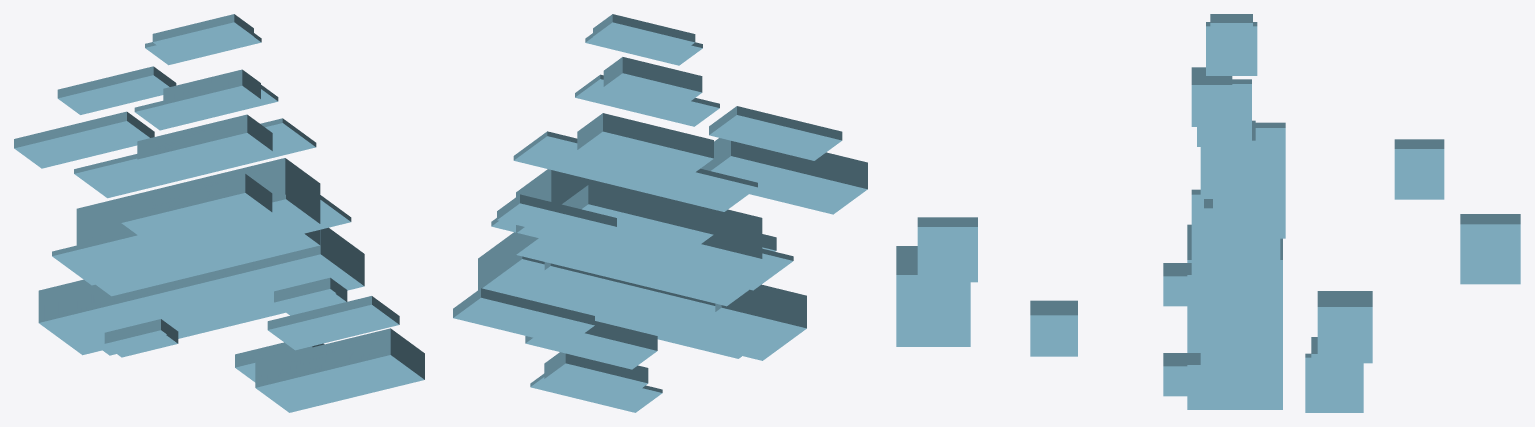
Rendered from tri-deck-superyacht.glb.
3 views of the same model, side by side, from view 1: azimuth 30°, elevation 25°; view 2: azimuth 150°, elevation 25°; view 3: azimuth 270°, elevation 25° (orthographic). The views are drawn at different scales.
Parts seen in each view (by area): view 1: SuperyachtHull, SuperyachtBow, SuperyachtMainDeck, SuperyachtSuperstructure, SuperyachtMainSalon, SuperyachtSkyLounge, SuperyachtAftDeck, SuperyachtUpperDeck, SuperyachtForedeck, SuperyachtUpperAft, SuperyachtPilothouse, SuperyachtSunDeck (+6 smaller); view 2: SuperyachtHull, SuperyachtSuperstructure, SuperyachtBow, SuperyachtUpperDeck, SuperyachtMainDeck, SuperyachtSkyLounge, SuperyachtMainSalon, SuperyachtAftDeck, SuperyachtForedeck, SuperyachtUpperAft, SuperyachtMaster, SuperyachtPilothouse (+6 smaller); view 3: SuperyachtHull, SuperyachtMainDeck, SuperyachtBow, SuperyachtUpperDeck, SuperyachtAftDeck, SuperyachtMaster, SuperyachtForedeck, SuperyachtUpperAft, SuperyachtSkyLounge, SuperyachtForwardGuest, SuperyachtMainSalon, SuperyachtSunDeck (+8 smaller).
Boxes of the visible parts, bbox=[...] form: SuperyachtHull: bbox=[38, 227, 364, 355]; SuperyachtBow: bbox=[255, 328, 424, 412]; SuperyachtMainDeck: bbox=[52, 194, 351, 285]; SuperyachtSuperstructure: bbox=[76, 158, 320, 296]; SuperyachtMainSalon: bbox=[121, 173, 272, 242]; SuperyachtSkyLounge: bbox=[137, 114, 272, 177]; SuperyachtAftDeck: bbox=[14, 111, 154, 168]; SuperyachtUpperDeck: bbox=[74, 118, 316, 198]; SuperyachtForedeck: bbox=[267, 296, 399, 350]; SuperyachtUpperAft: bbox=[57, 66, 176, 114]; SuperyachtPilothouse: bbox=[163, 69, 260, 118]; SuperyachtSunDeck: bbox=[152, 14, 253, 56]; SuperyachtHull: bbox=[478, 232, 806, 360]; SuperyachtSuperstructure: bbox=[516, 169, 762, 306]; SuperyachtBow: bbox=[701, 138, 867, 214]; SuperyachtUpperDeck: bbox=[513, 131, 757, 211]; SuperyachtMainDeck: bbox=[491, 218, 793, 290]; SuperyachtSkyLounge: bbox=[577, 113, 713, 177]; SuperyachtMainSalon: bbox=[562, 185, 713, 254]; SuperyachtAftDeck: bbox=[453, 288, 594, 345]; SuperyachtForedeck: bbox=[709, 106, 842, 160]; SuperyachtUpperAft: bbox=[497, 194, 616, 243]; SuperyachtMaster: bbox=[525, 321, 657, 369]; SuperyachtPilothouse: bbox=[603, 57, 702, 106]; SuperyachtHull: bbox=[1187, 224, 1282, 409]; SuperyachtMainDeck: bbox=[1191, 189, 1278, 332]; SuperyachtBow: bbox=[896, 246, 970, 346]; SuperyachtUpperDeck: bbox=[1213, 122, 1285, 238]; SuperyachtAftDeck: bbox=[1460, 214, 1520, 284]; SuperyachtMaster: bbox=[1317, 291, 1372, 363]; SuperyachtForedeck: bbox=[917, 217, 977, 282]; SuperyachtUpperAft: bbox=[1394, 139, 1444, 199]; SuperyachtSkyLounge: bbox=[1200, 120, 1255, 198]; SuperyachtForwardGuest: bbox=[1030, 300, 1077, 356]; SuperyachtMainSalon: bbox=[1216, 238, 1274, 277]; SuperyachtSunDeck: bbox=[1210, 14, 1252, 66].
Size of the model in its own units: 10 by 10.87 by 17.6.
